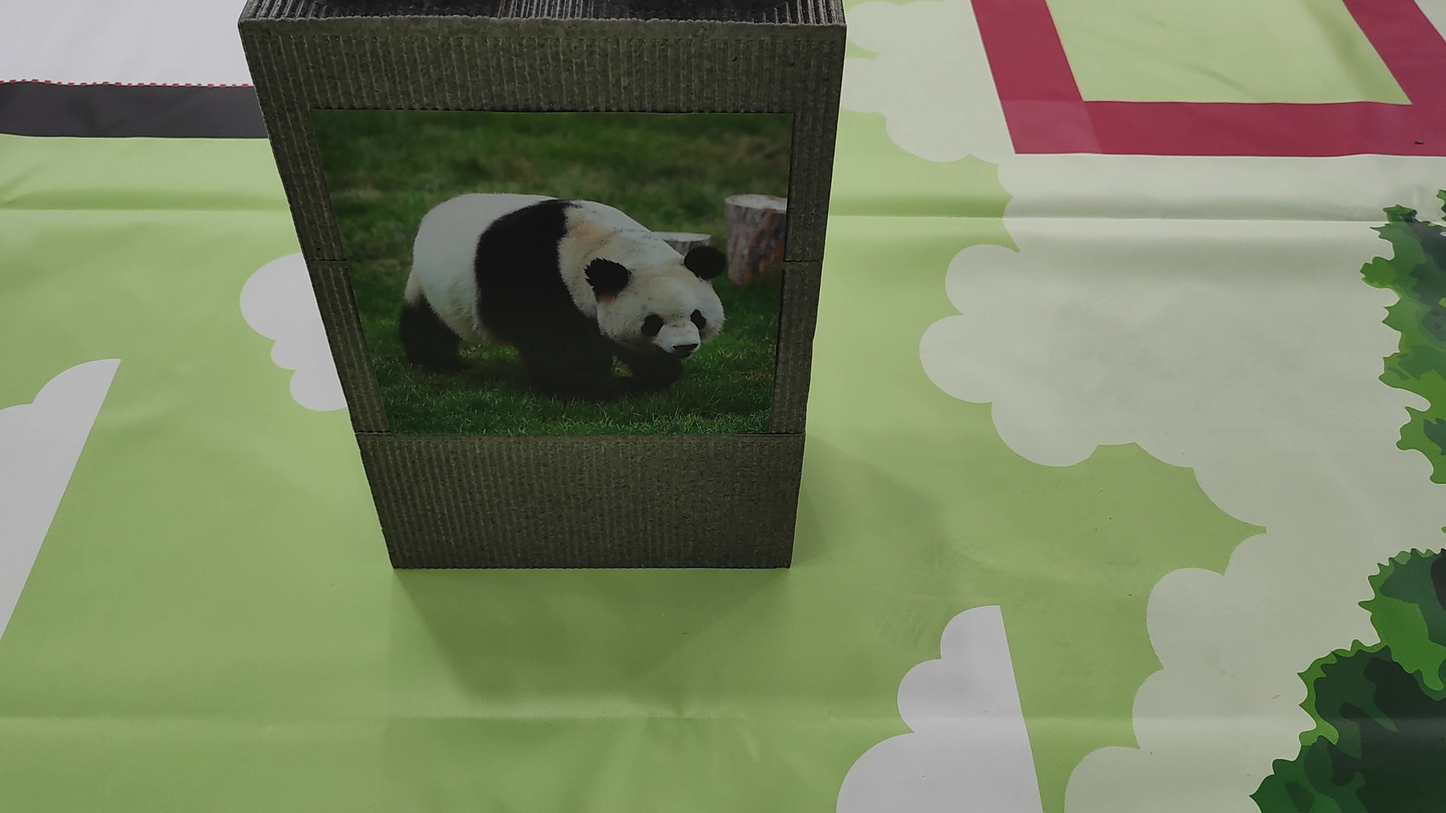panda: (378, 167, 747, 427)
